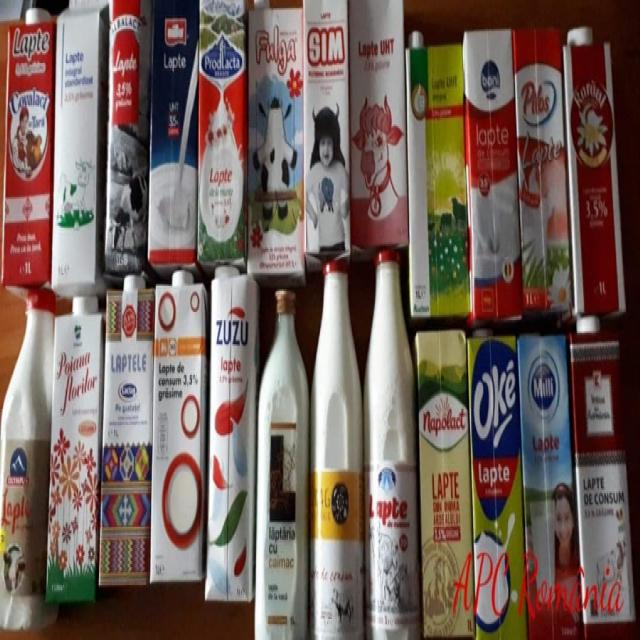milk: (570, 313, 636, 621), (406, 29, 470, 321), (414, 331, 474, 639), (468, 328, 527, 640), (565, 27, 625, 314), (518, 326, 573, 635), (512, 29, 572, 312), (208, 265, 255, 604), (463, 31, 520, 310), (247, 0, 305, 274), (155, 270, 205, 582), (103, 277, 152, 587), (55, 2, 104, 298), (53, 300, 101, 602), (351, 0, 407, 250), (3, 7, 53, 286), (150, 1, 198, 264), (199, 0, 246, 264), (106, 3, 151, 275), (305, 0, 350, 264)
